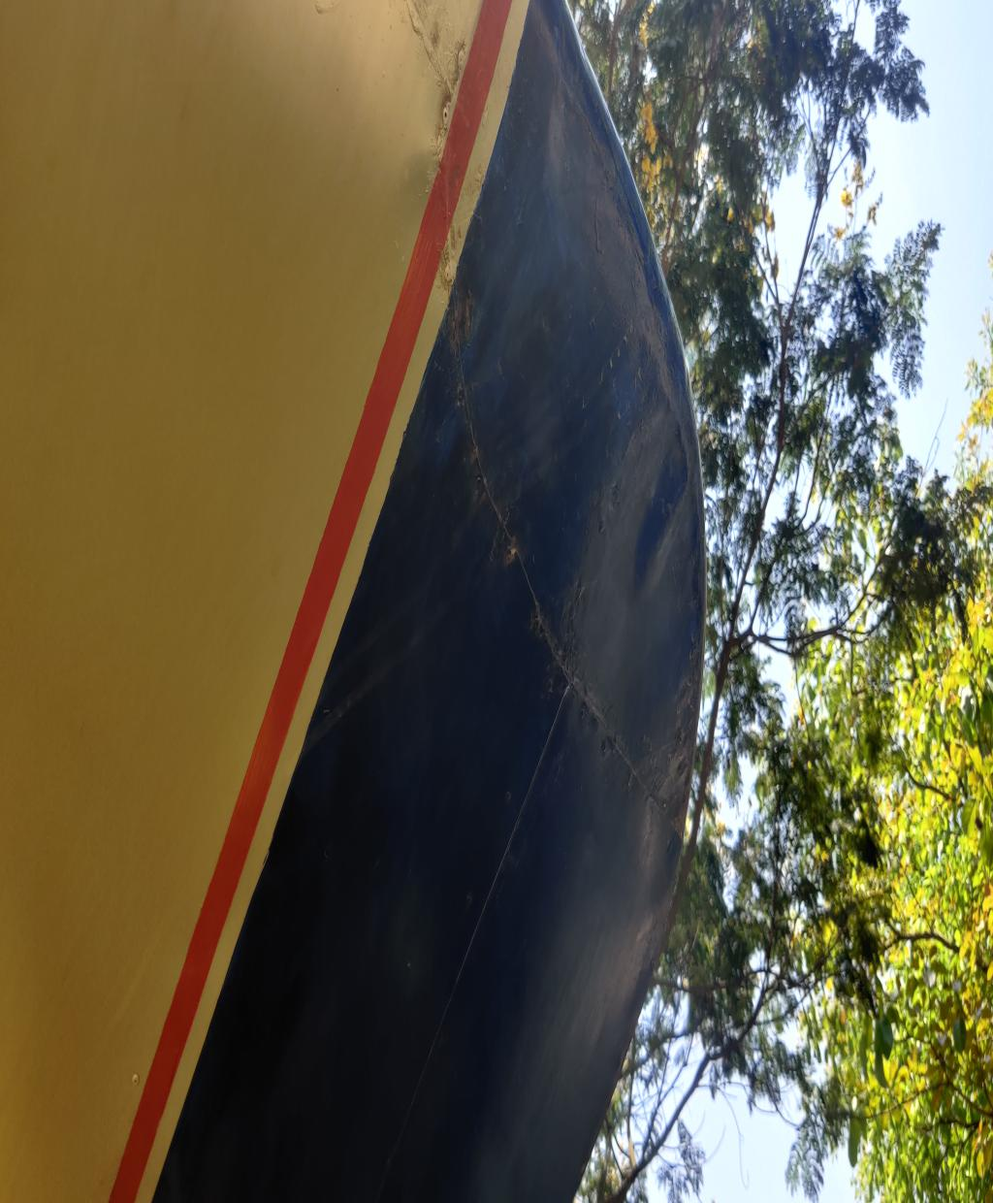dent: (611, 394, 695, 635), (635, 739, 700, 930), (533, 41, 600, 209)
